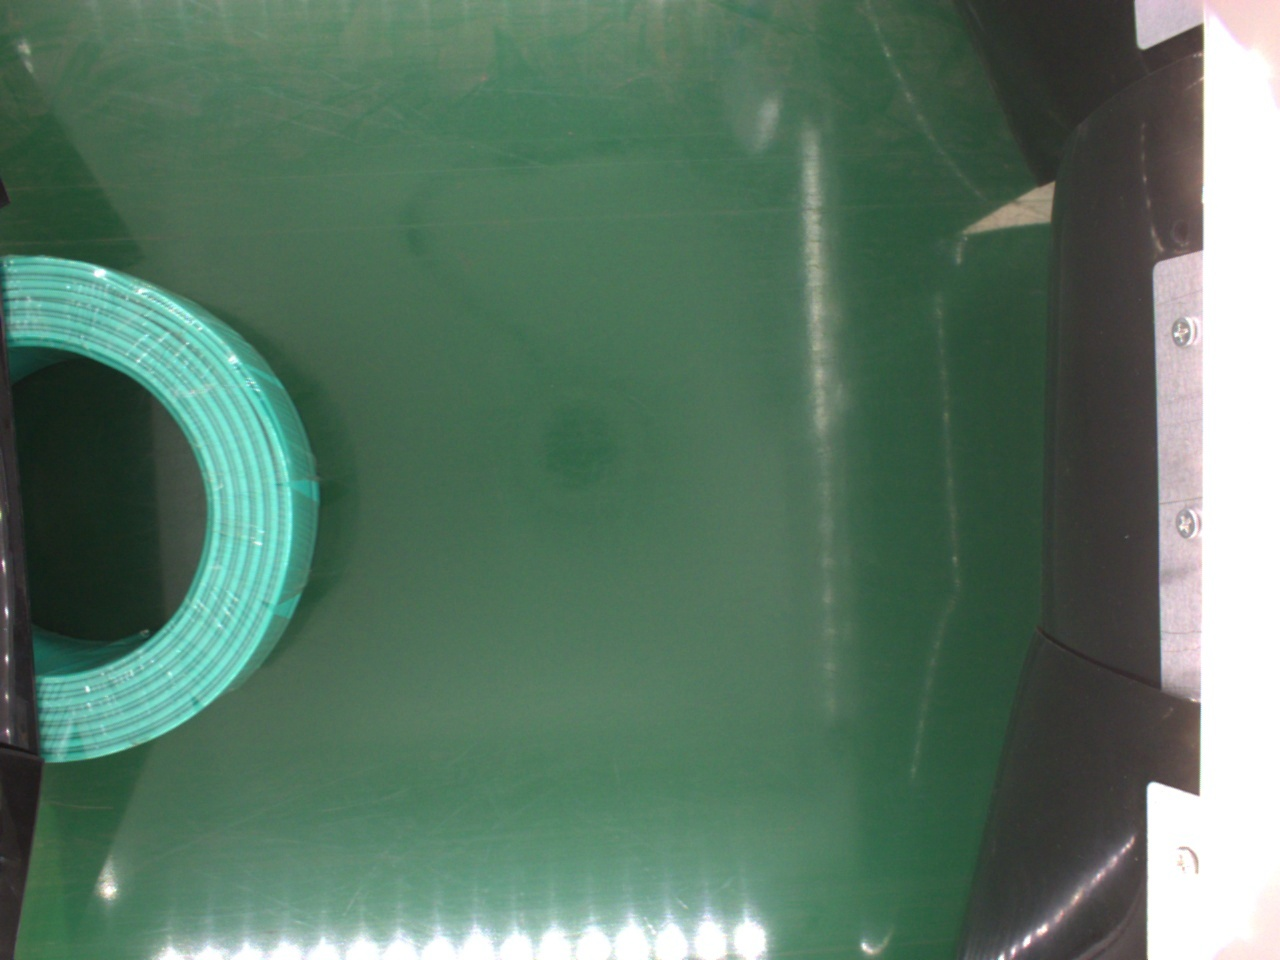green: (8, 248, 321, 771)
